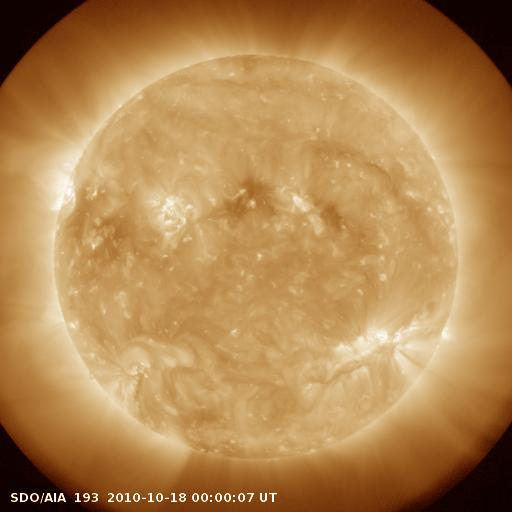coronal_hole: (56, 190, 134, 255), (215, 178, 282, 217)
